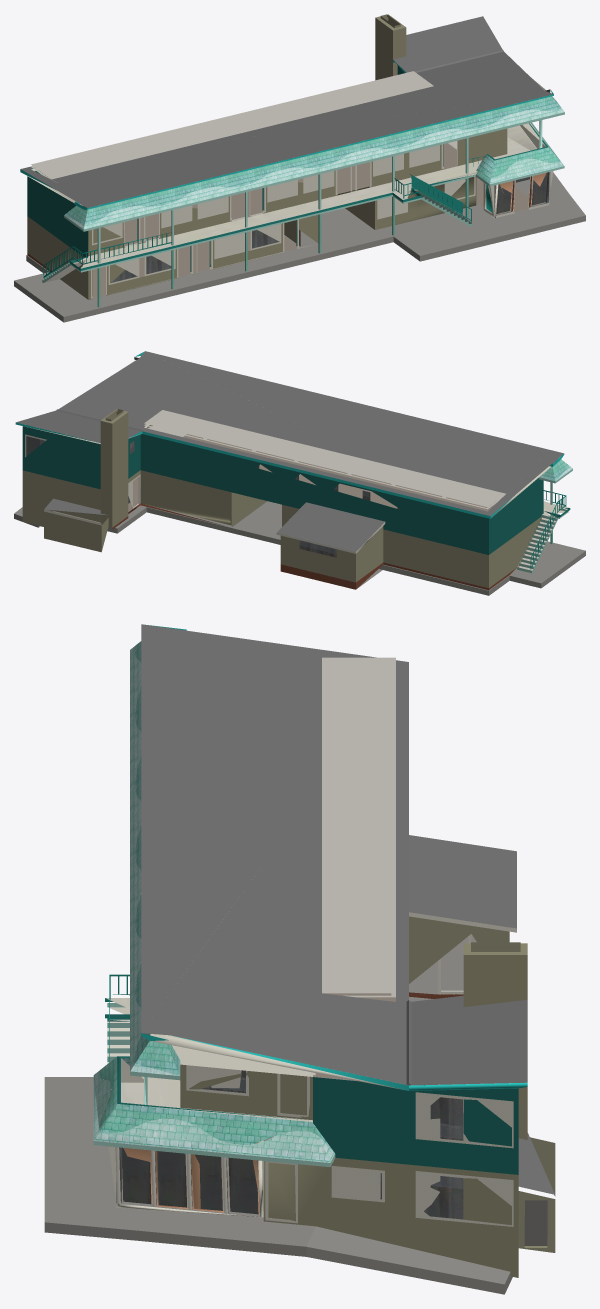
Rendered from roadside-motel.access-v16.lod1.glb.
3 views of the same model, one above another, from view 1: azimuth 30°, elevation 25°; view 2: azimuth 150°, elevation 25°; view 3: azimuth 270°, elevation 25° (orthographic). The views are drawn at different scales.
Visible parts, largest first — view 1: Object_6, Object_5, Object_11, Object_10, Object_4, Object_8; view 2: Object_6, Object_4, Object_5, Object_11, Object_8, Object_10; view 3: Object_6, Object_5, Object_11, Object_8, Object_10, Object_4.
Boxes of the visible parts, x1,y1,x2,y2 form: Object_6: [14, 14, 585, 322]; Object_5: [24, 77, 553, 298]; Object_11: [42, 105, 564, 282]; Object_10: [64, 96, 560, 307]; Object_4: [20, 60, 553, 278]; Object_8: [111, 89, 550, 282]; Object_6: [14, 351, 585, 595]; Object_4: [15, 351, 570, 590]; Object_5: [25, 356, 569, 570]; Object_11: [517, 461, 572, 573]; Object_8: [26, 357, 401, 557]; Object_10: [539, 459, 569, 543]; Object_6: [44, 624, 555, 1294]; Object_5: [103, 893, 524, 1226]; Object_11: [93, 646, 335, 1167]; Object_8: [119, 1070, 463, 1219]; Object_10: [99, 641, 334, 1152]; Object_4: [105, 624, 527, 1214].
Size of the model in its own units: 37.03 by 9.34 by 17.02.
6 materials, 5 textured.
